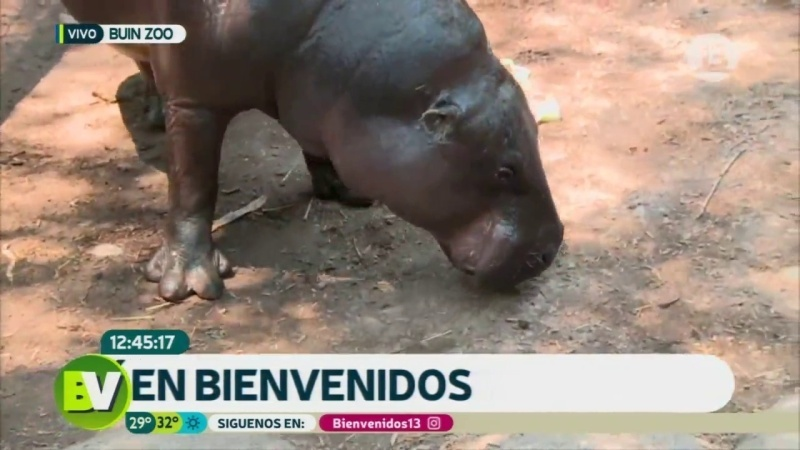hipopotamo: (41, 1, 582, 316)
